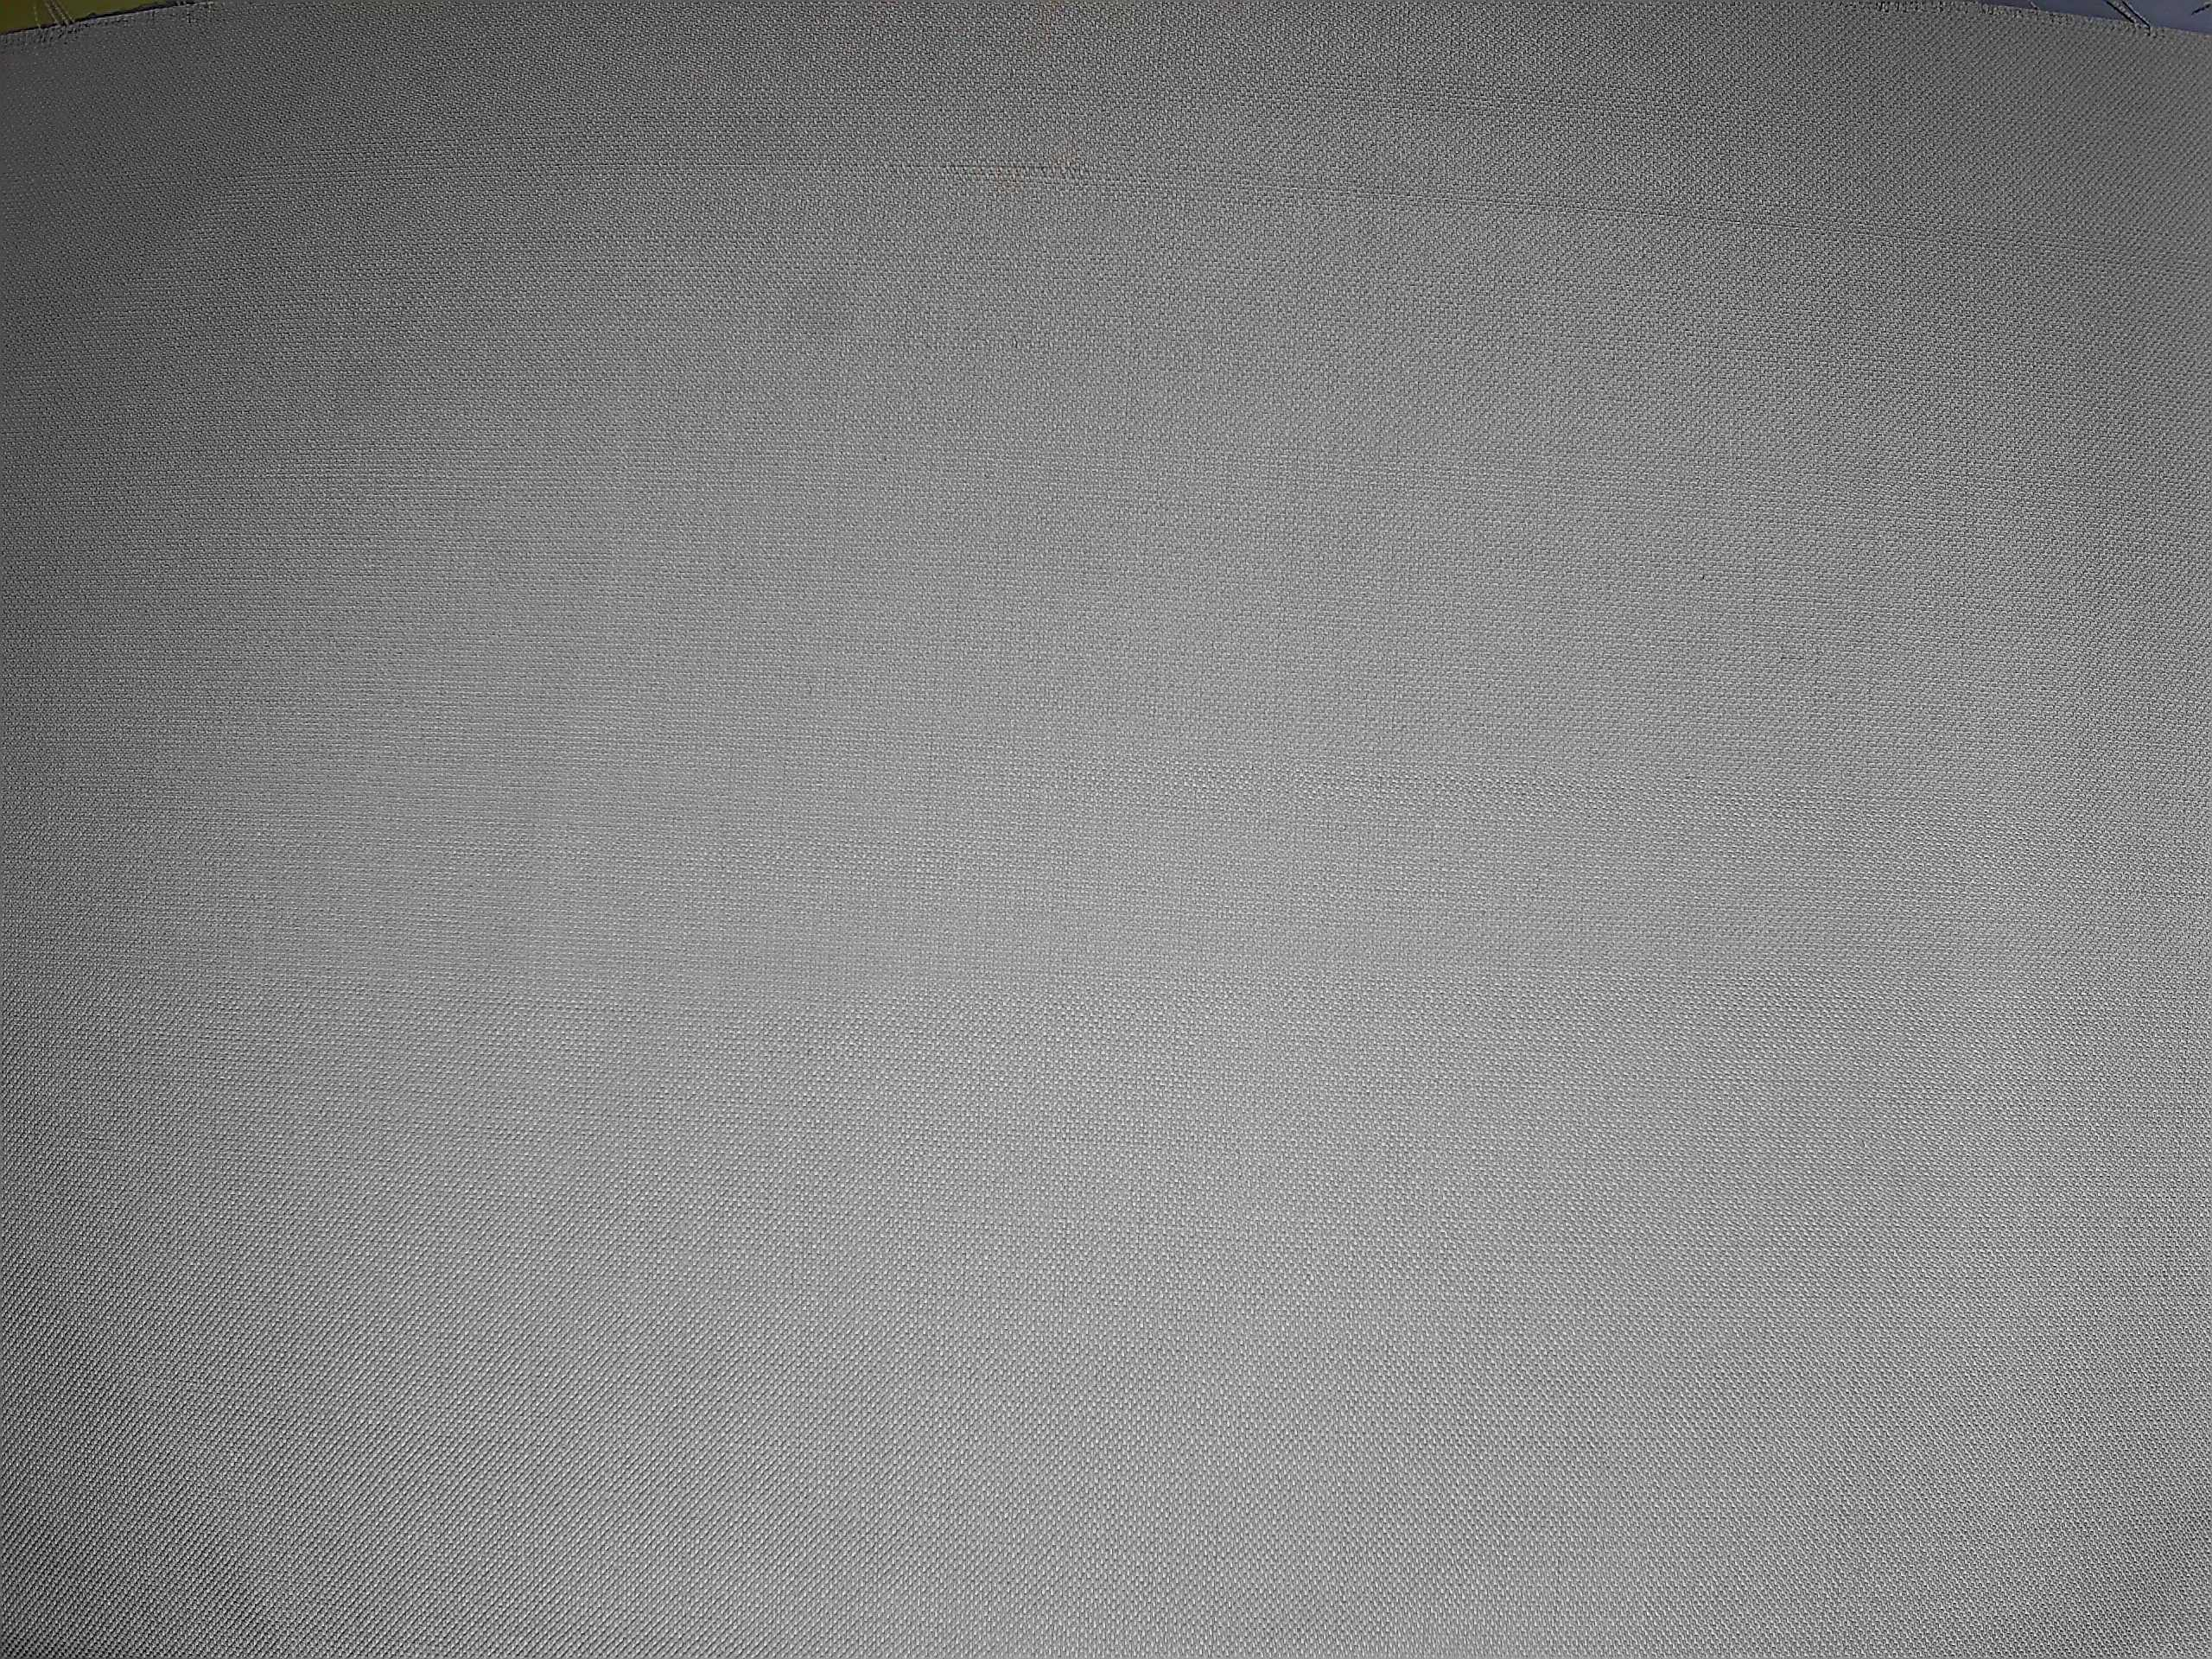thin-spinning: (690, 131, 2019, 268)
